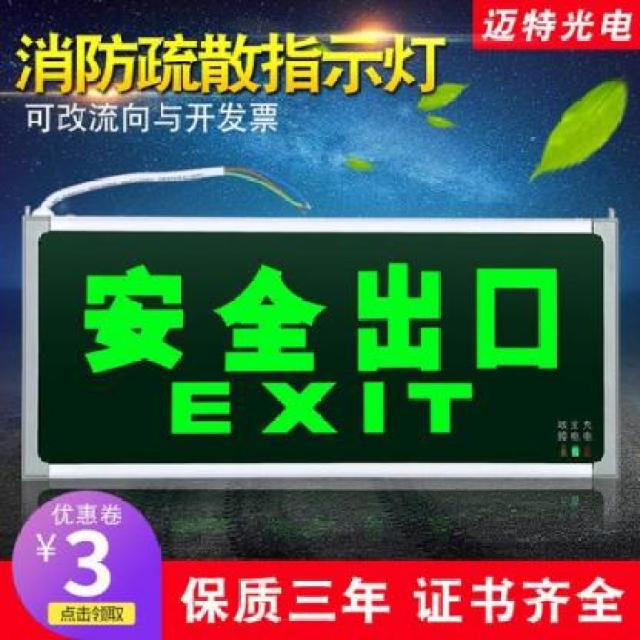exit_sign: (31, 229, 607, 472)
